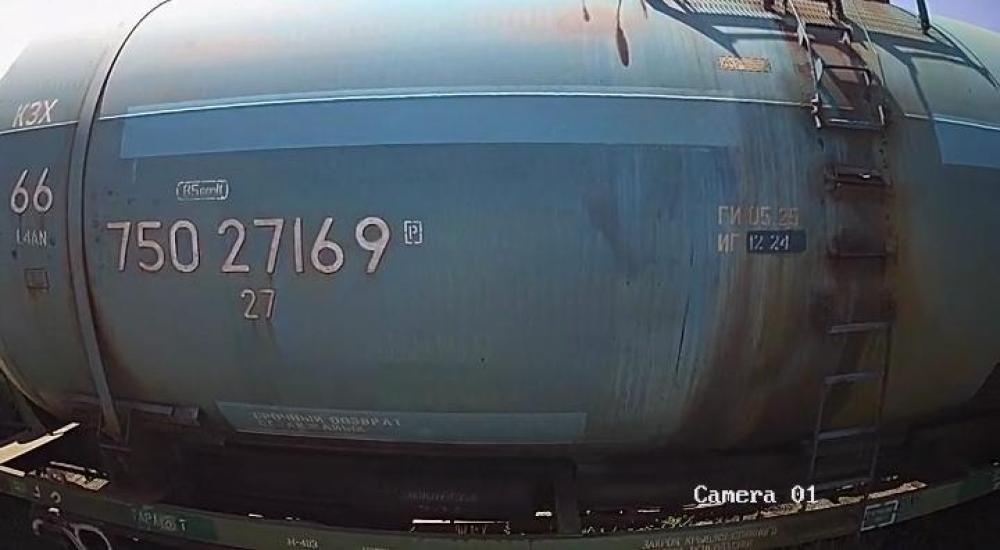Wagon-number: (99, 208, 399, 282)
